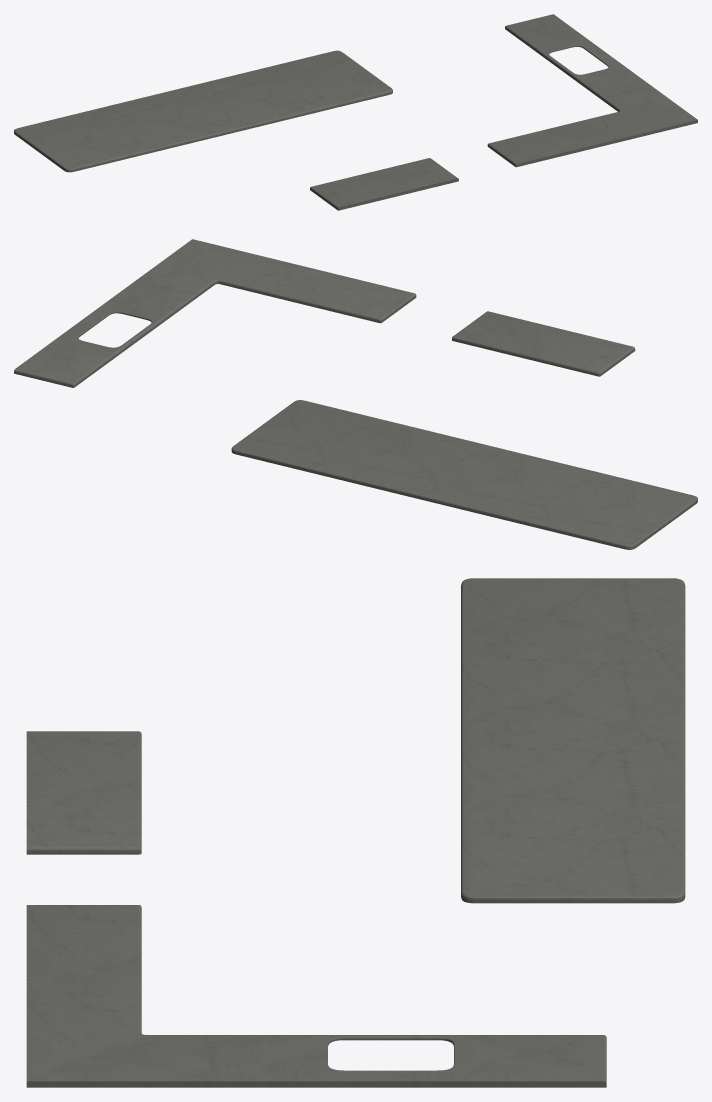
File: 1860_kitchen_Countertops_QuartzExpoGray.gltf
3 views of the same model, one above another, from view 1: azimuth 30°, elevation 25°; view 2: azimuth 150°, elevation 25°; view 3: azimuth 270°, elevation 25° (orthographic). The views are drawn at different scales.
Parts seen in each view (by area): view 1: Line18738; view 2: Line18738; view 3: Line18738.
Part boxes in pixels (x1,y1,x2,y2): Line18738: (14, 14, 697, 210); Line18738: (14, 239, 697, 549); Line18738: (26, 578, 685, 1087).
Size of the model in its own units: 8.6 by 0.09 by 4.7.
Materials: 1 (1 with a texture image).
